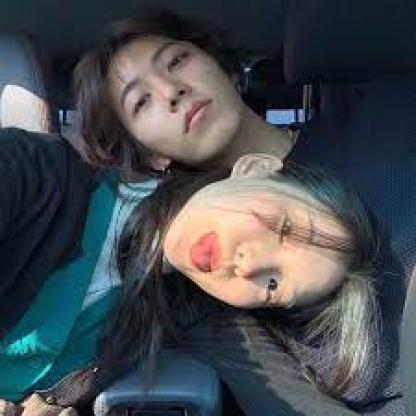person: (154, 156, 369, 314), (83, 28, 270, 158)
